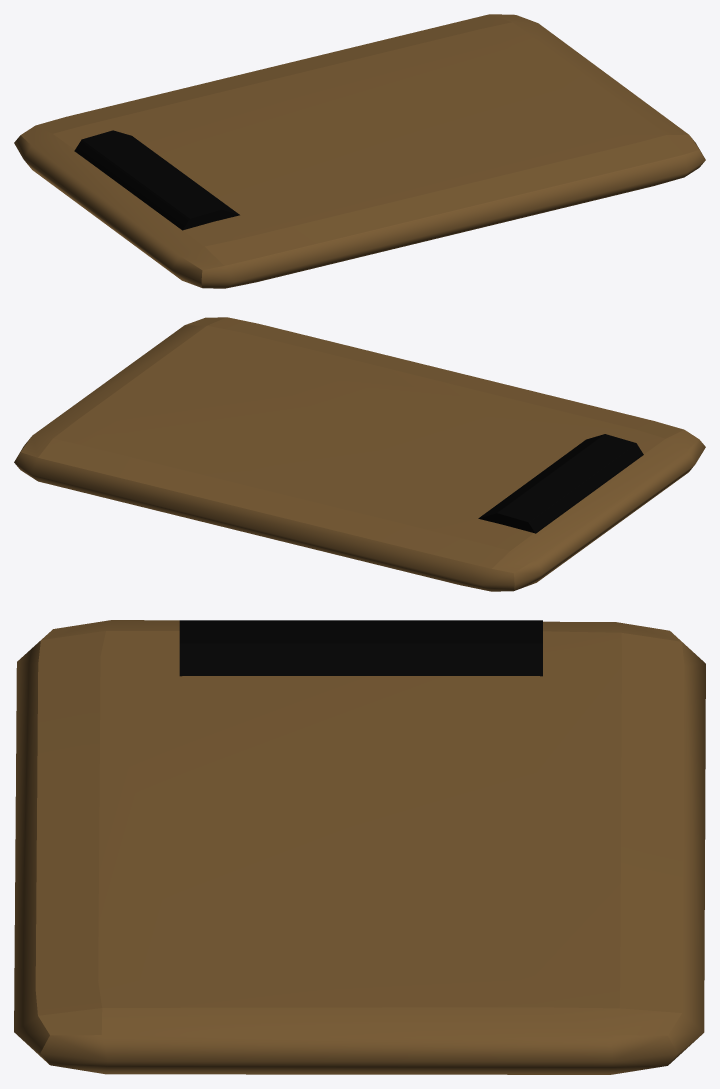
Rendered from ClipBoard.fbx.
The picture shows the model from 3 angles, top to bottom: view 1: azimuth 30°, elevation 25°; view 2: azimuth 150°, elevation 25°; view 3: azimuth 270°, elevation 25°; orthographic projection. The views are drawn at different scales.
Visible parts, largest first — view 1: Cube, Cube.001; view 2: Cube, Cube.001; view 3: Cube, Cube.001.
Part boxes in pixels (x1=…): Cube: x1=14, y1=14, x2=705, y2=288; Cube.001: x1=74, y1=130, x2=239, y2=230; Cube: x1=14, y1=317, x2=705, y2=591; Cube.001: x1=478, y1=434, x2=643, y2=533; Cube: x1=14, y1=620, x2=705, y2=1074; Cube.001: x1=179, y1=620, x2=542, y2=676.
Size of the model in its own units: 90.74 by 7.64 by 61.96.
